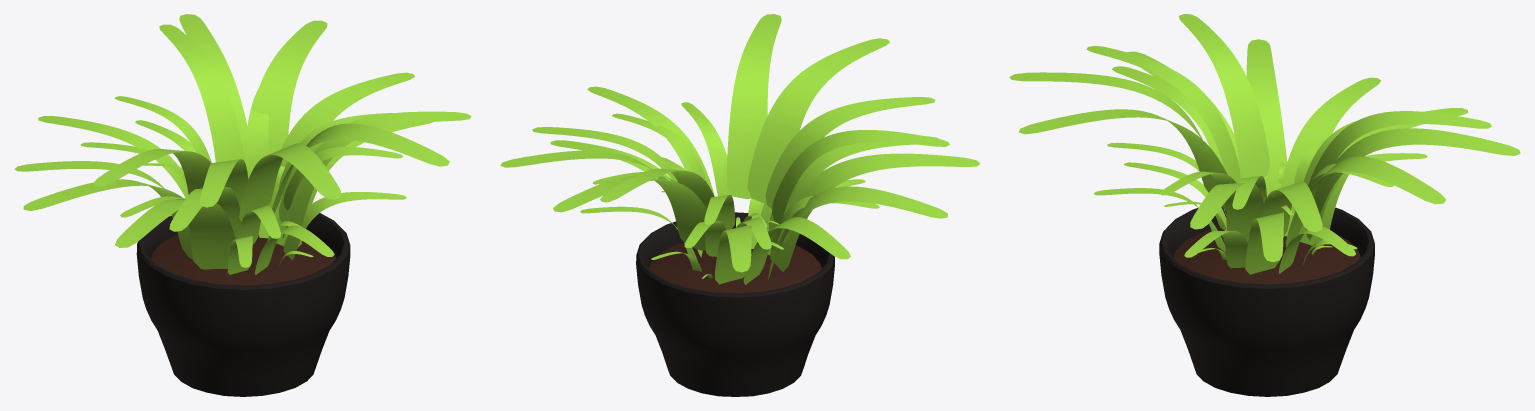
File: plant_big.glb
3 views of the same model, side by side, from view 1: azimuth 30°, elevation 25°; view 2: azimuth 150°, elevation 25°; view 3: azimuth 270°, elevation 25° (orthographic). The views are drawn at different scales.
Visible parts, largest first — view 1: plant_big; view 2: plant_big; view 3: plant_big.
Part boxes in pixels (x1,y1,x2,y2): plant_big: (14, 14, 471, 396); plant_big: (500, 14, 980, 396); plant_big: (1009, 14, 1520, 396).
Size of the model in its own units: 1.77 by 1.12 by 1.85.
